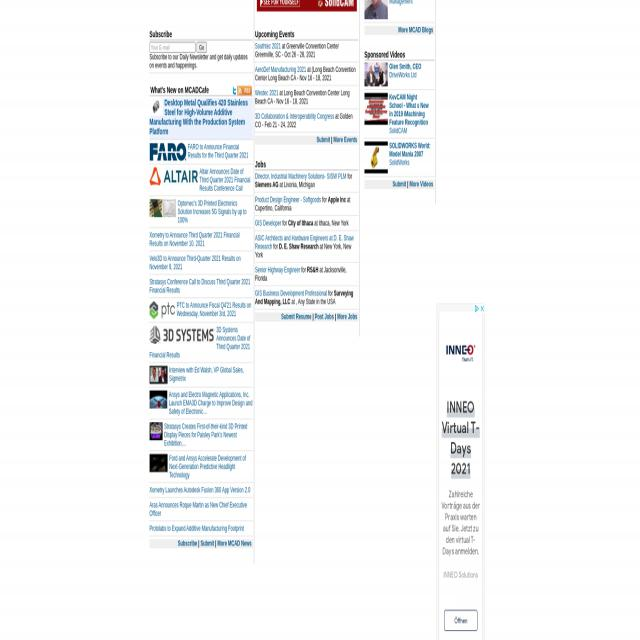button: (149, 326, 215, 344), (149, 168, 198, 185), (364, 93, 390, 125), (364, 142, 390, 173), (444, 610, 478, 630), (364, 62, 390, 87), (150, 142, 186, 160), (364, 0, 389, 23), (150, 199, 176, 217), (149, 301, 175, 319), (149, 454, 168, 472), (150, 366, 168, 384), (149, 391, 167, 408), (149, 98, 163, 116), (150, 422, 162, 440), (237, 86, 251, 96), (197, 42, 207, 53), (232, 86, 237, 96)
field: (150, 42, 196, 53)
